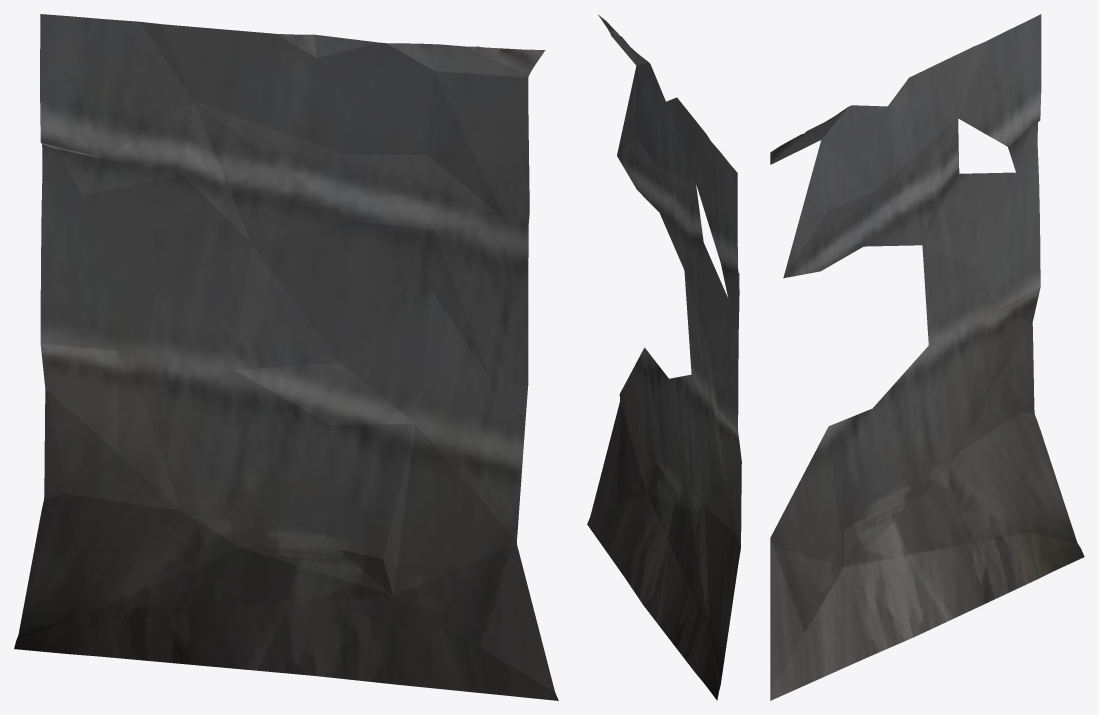
3 views of the same model, side by side, from view 1: azimuth 30°, elevation 25°; view 2: azimuth 150°, elevation 25°; view 3: azimuth 270°, elevation 25° (orthographic). The views are drawn at different scales.
Bounding box in the file's own units: 0.4762 × 0.8373 × 0.4394.
2 materials, 2 textured.
